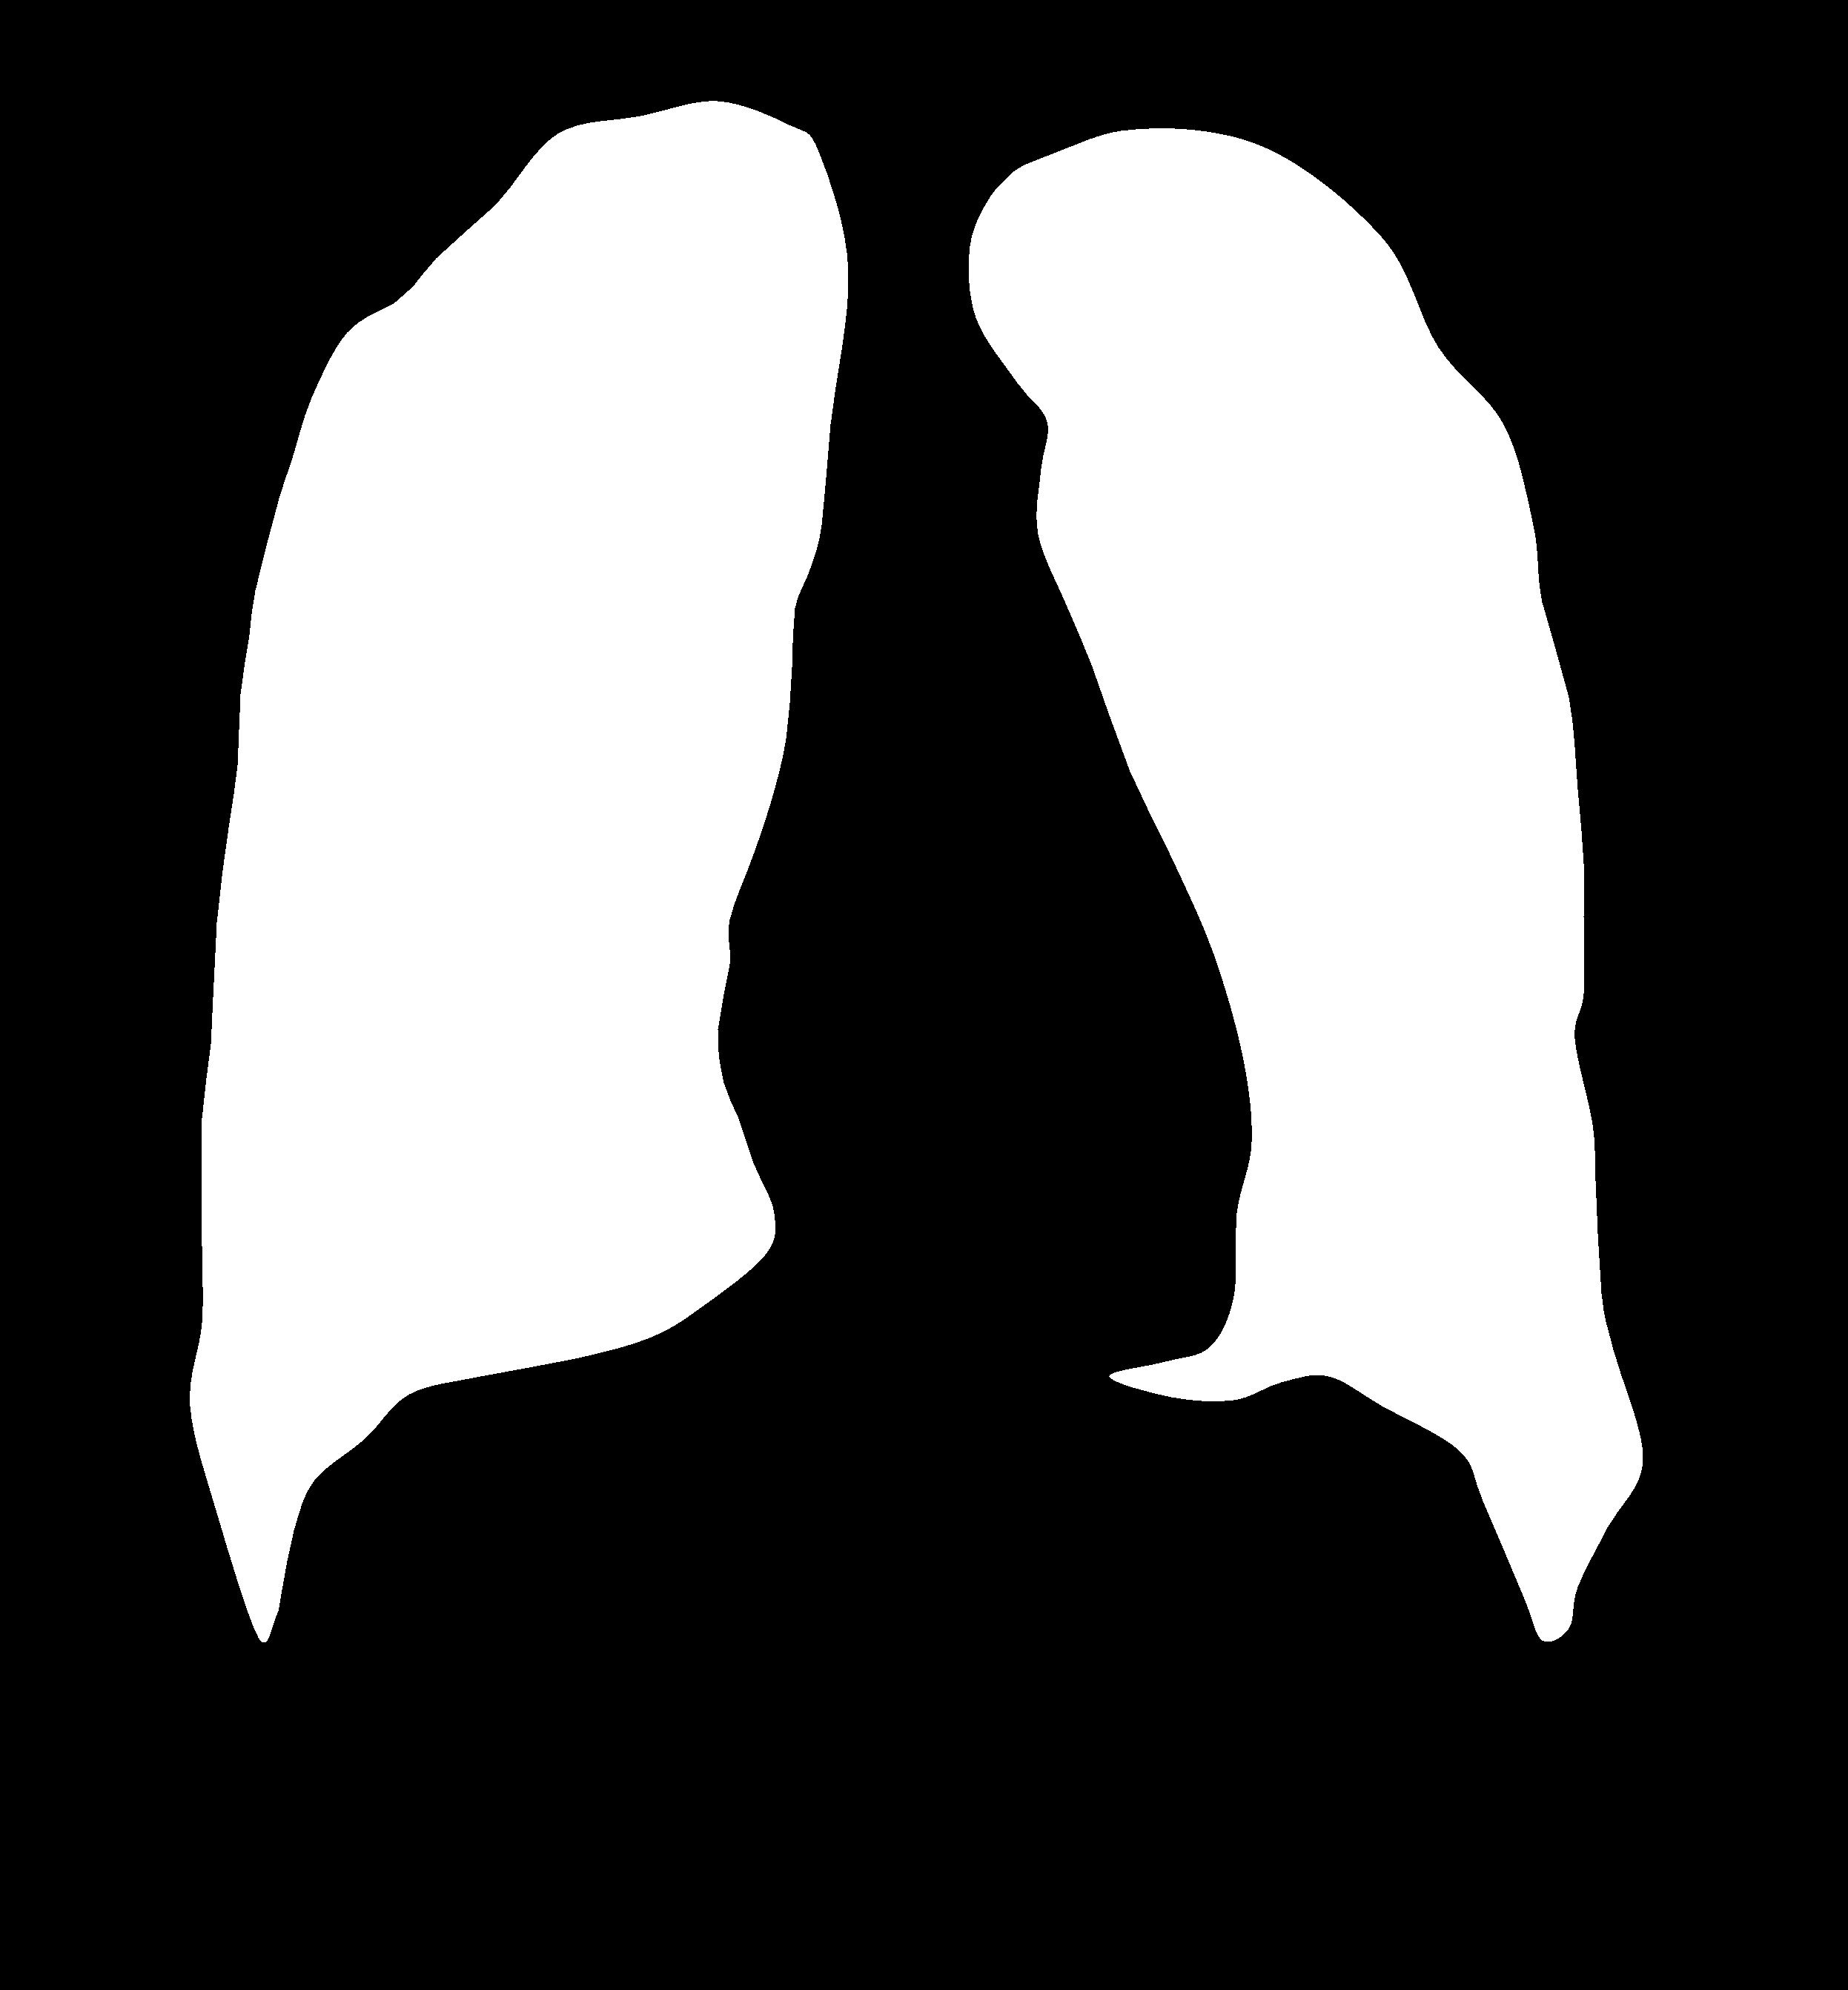heart: (712, 807, 1256, 1401)
left_lung: (189, 101, 848, 1641)
right_lung: (969, 128, 1627, 1651)
